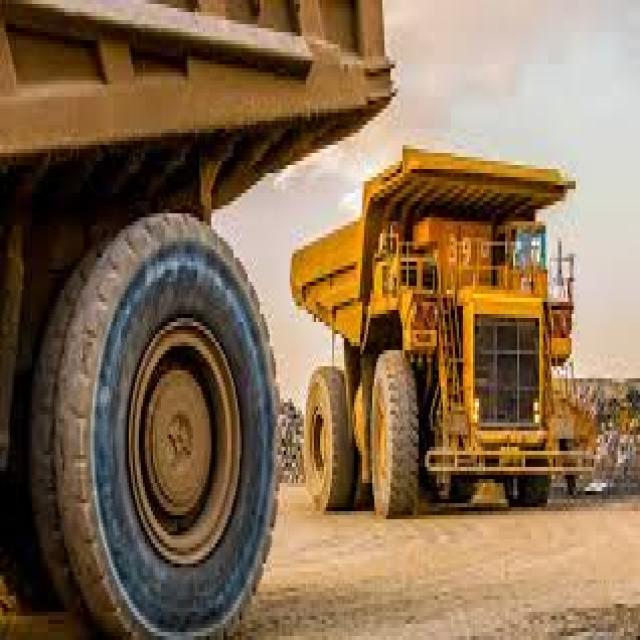dump_truck: (0, 0, 411, 636), (290, 129, 590, 527)
